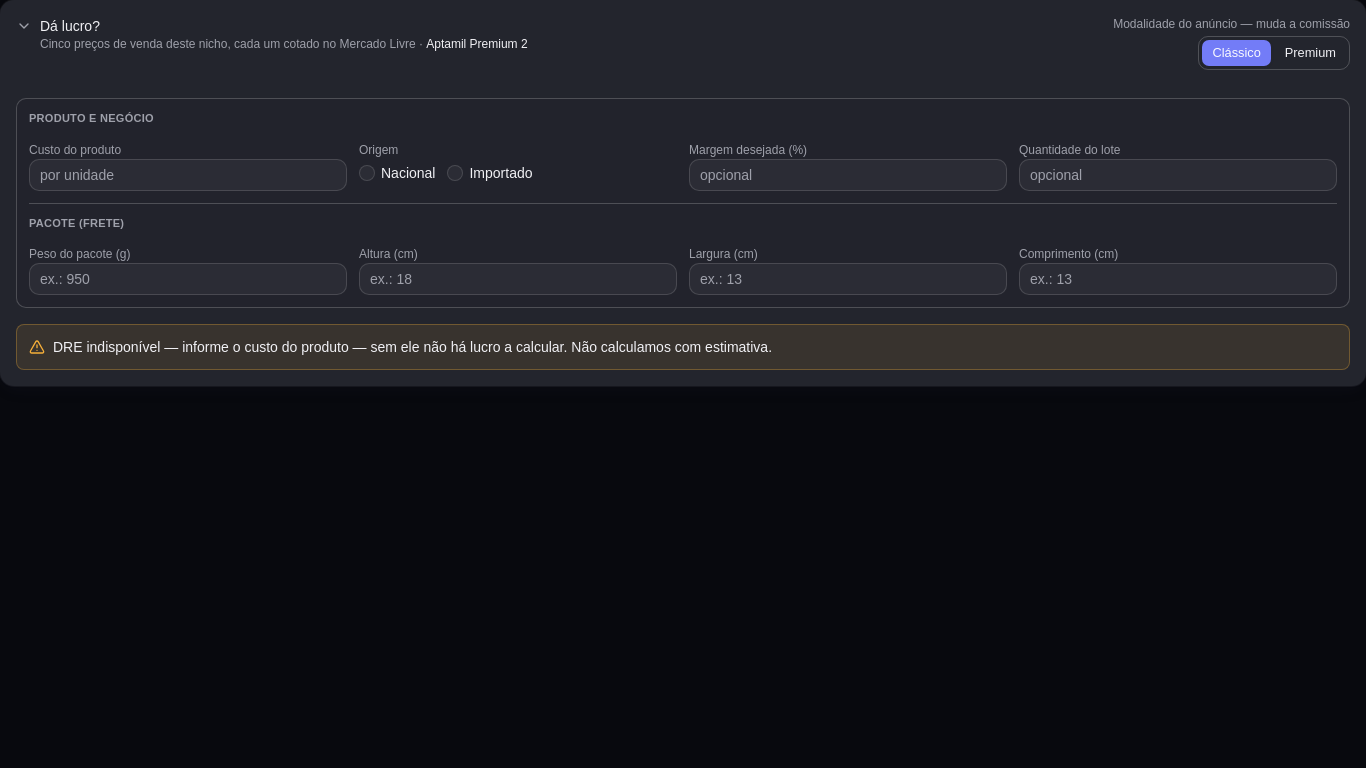
SonarDre — pacote e peso (D-16) › caixa grande e leve: o volumétrico vence e a tela diz isso
This screenshot has width=1366, height=768.
Type "42" into the field labelled "Custo do produto". click: (188, 175)
box: [29,159,347,191]
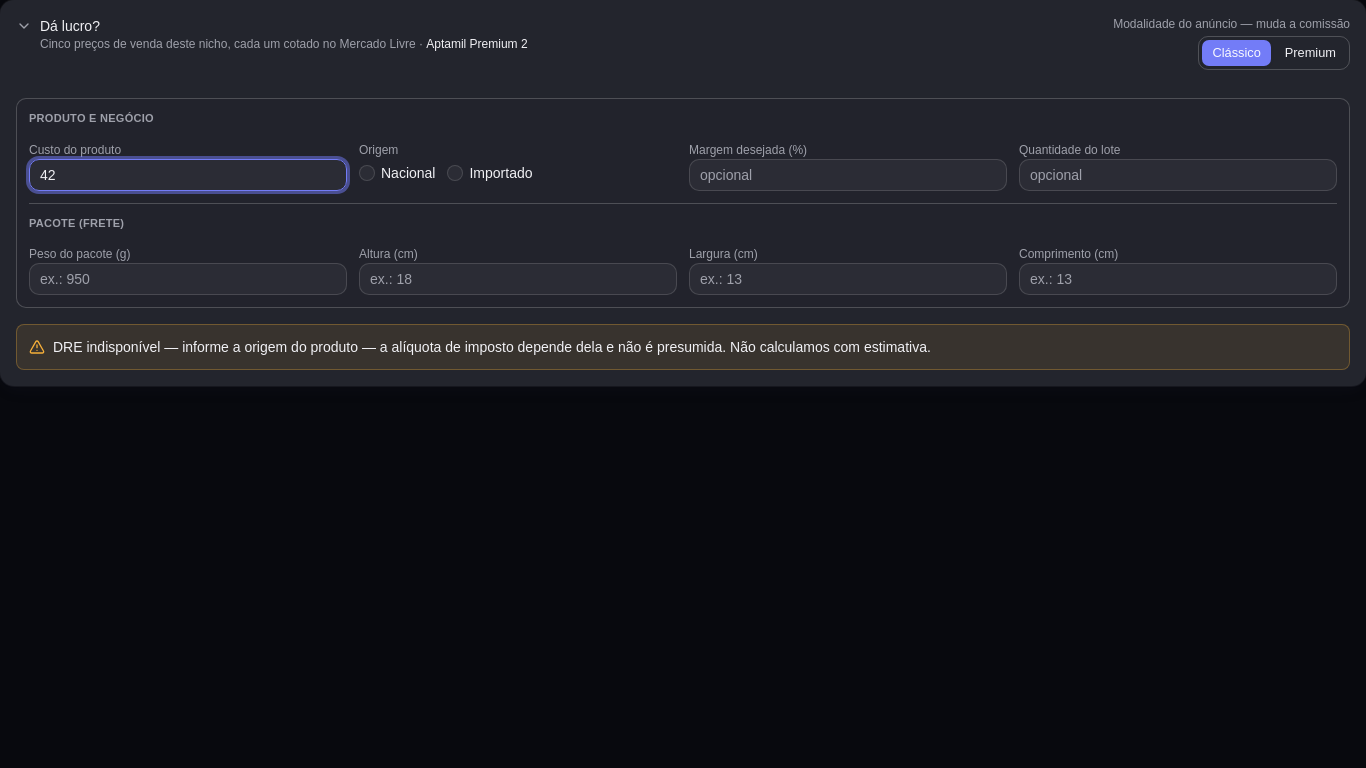
Click the radio button named "nacional" next to "Nacional". click: (367, 173)
box: [359,165,375,181]
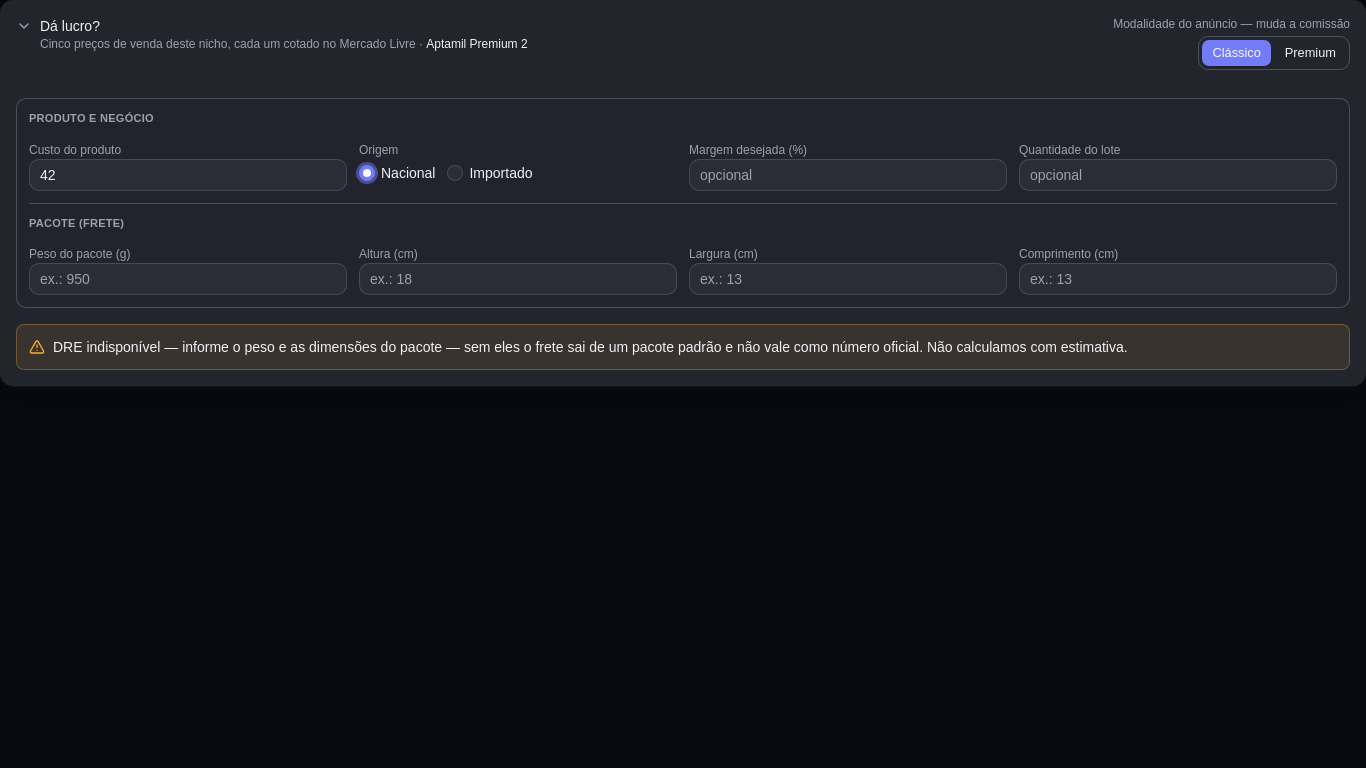
Type "1000" into the field labelled "Peso do pacote (g)". click: (188, 279)
box: [29,263,347,295]
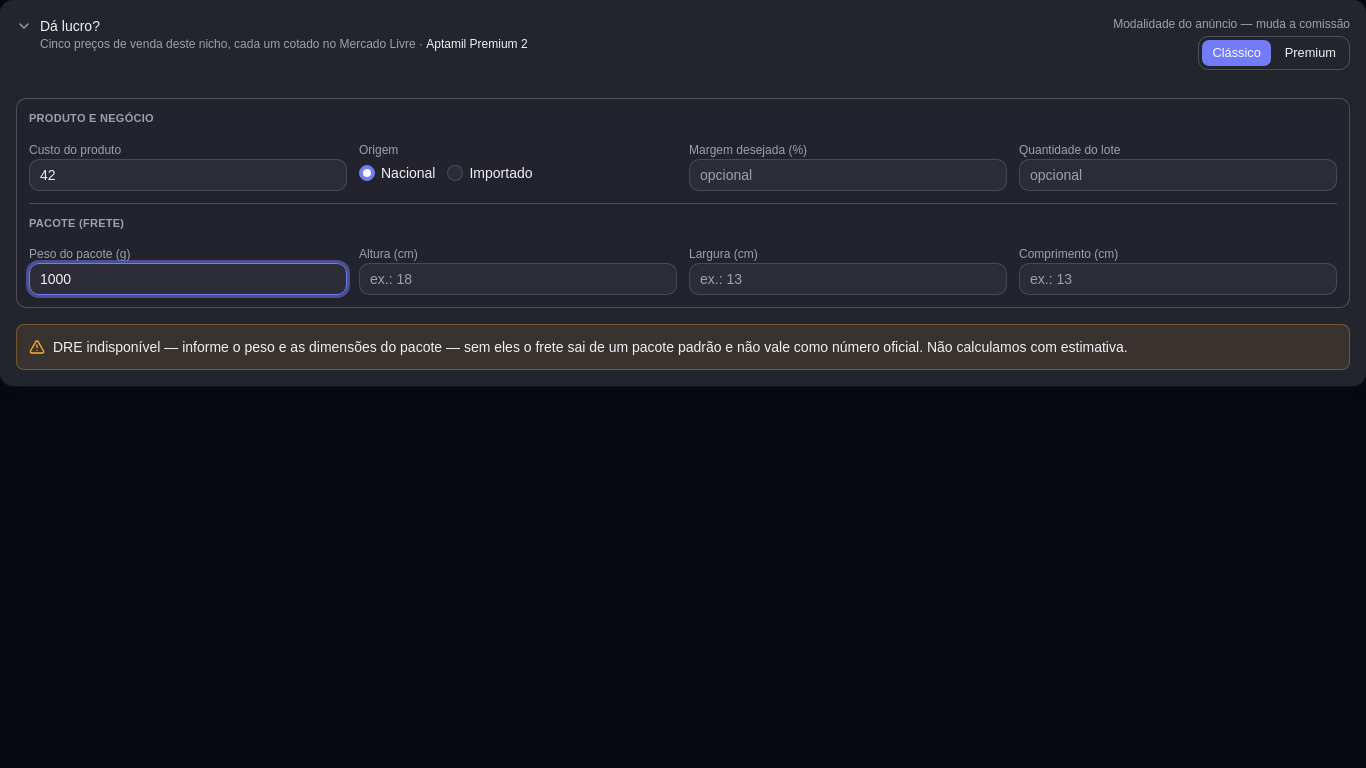
Type "40" into the field labelled "Altura (cm)". click: (518, 279)
box: [359,263,677,295]
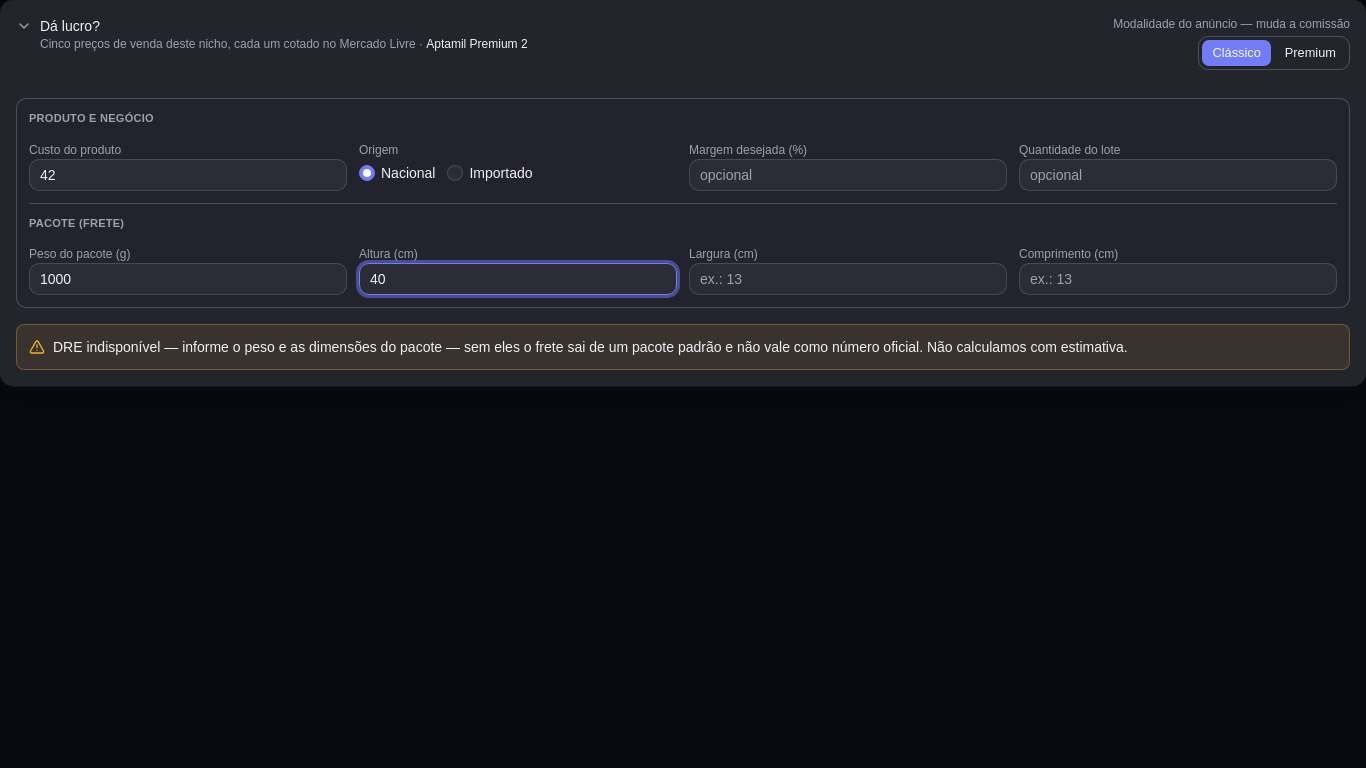
Type "40" into the field labelled "Largura (cm)". click: (848, 279)
box: [689,263,1007,295]
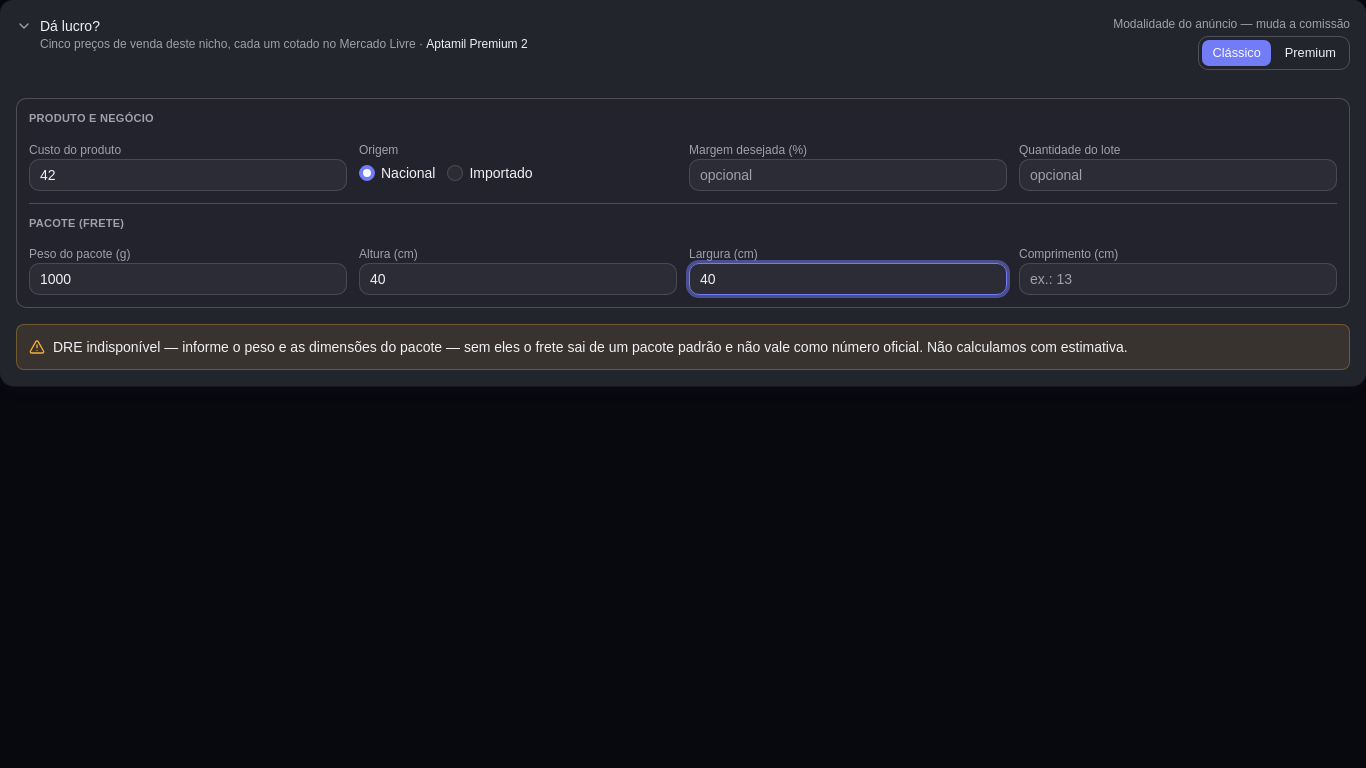
Type "40" into the field labelled "Comprimento (cm)". click: (1178, 279)
box: [1019,263,1337,295]
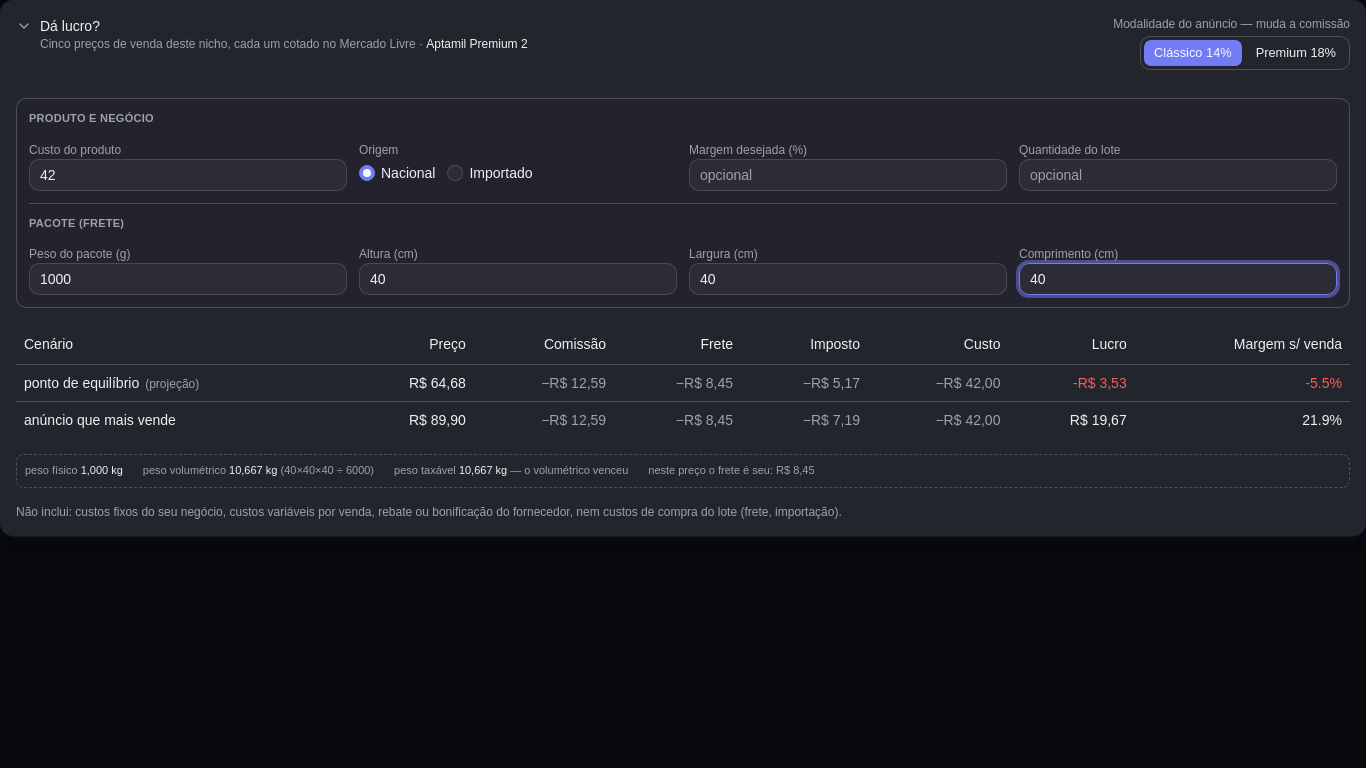
Expected: the text "10,667 kg" is shown 2 times, [229,464,277,476]; [459,464,507,476]
Expected: the text "o volumétrico venceu" is shown, [524,464,628,476]
